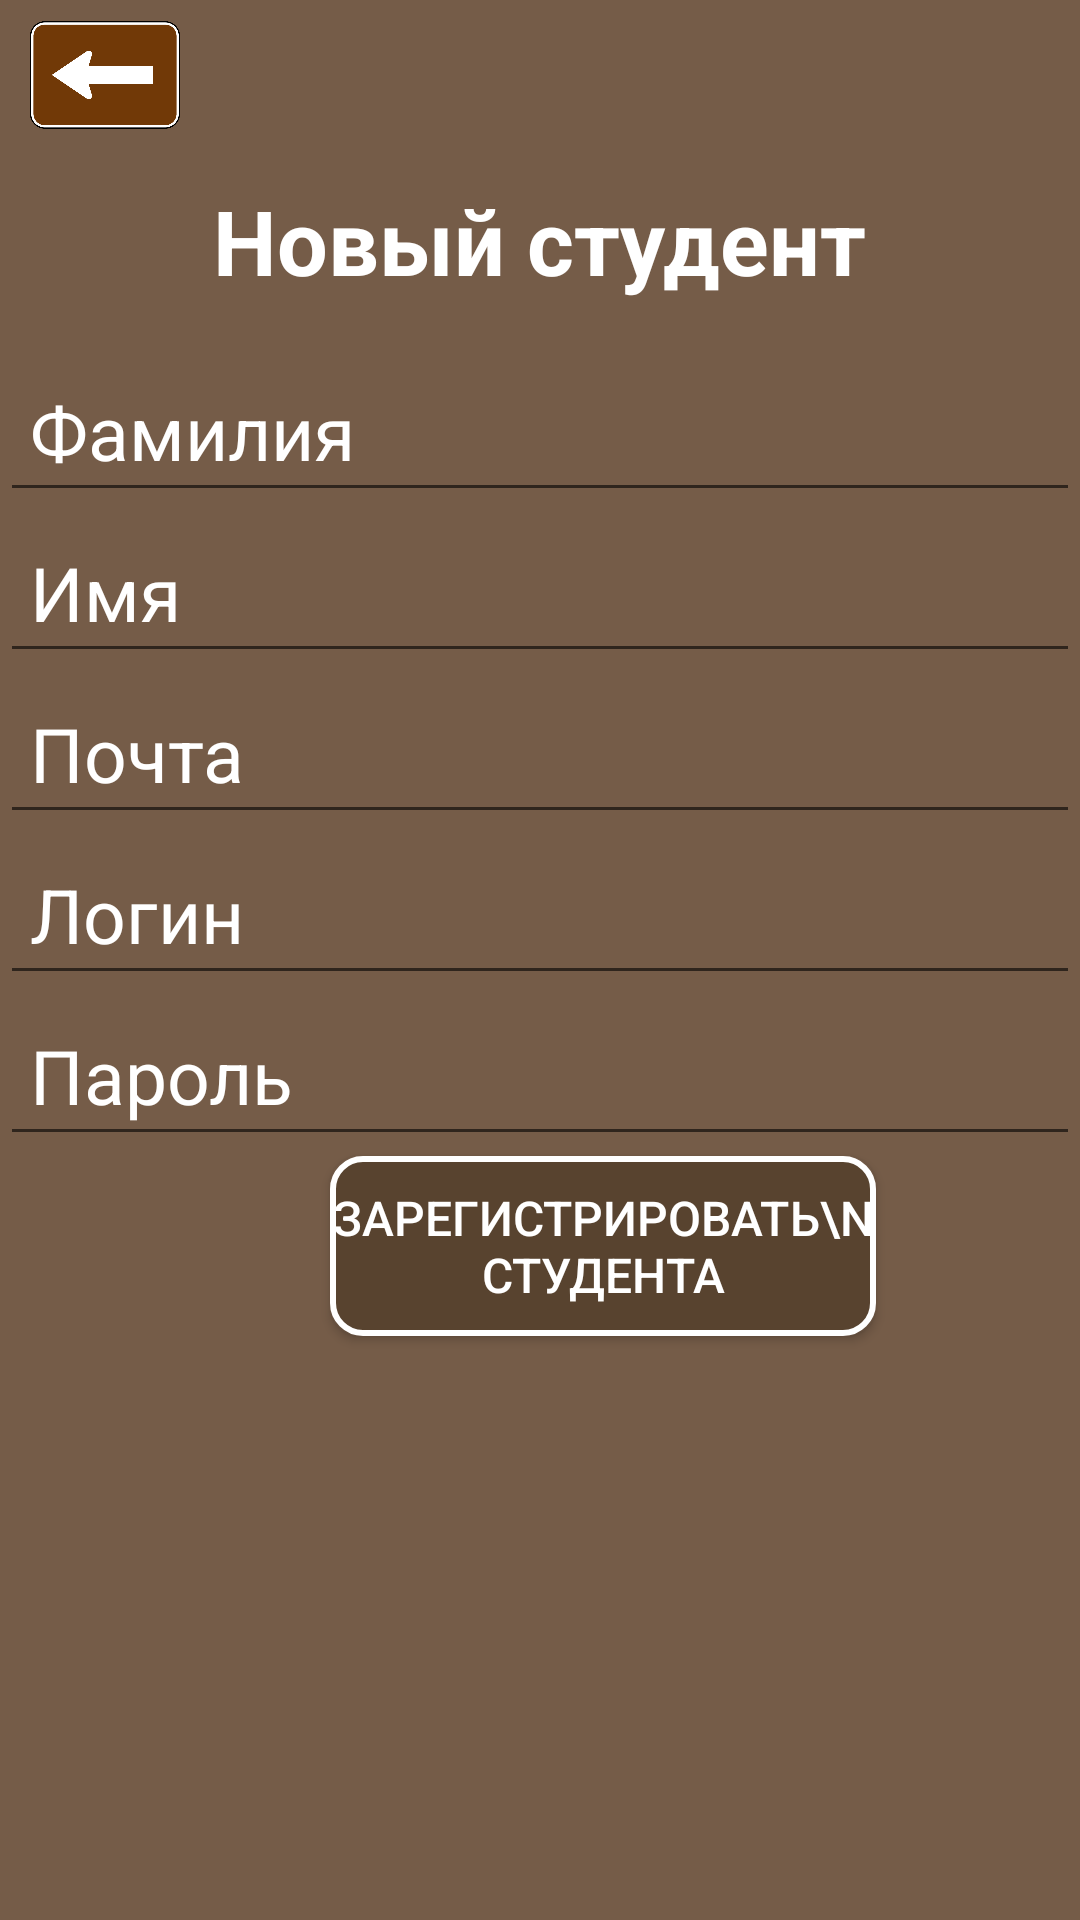

Named icons in this screenshot (1080 × 1920) and their bounding boxes, (x1, y1, x2, y2):
bac: (30, 21, 180, 129)
